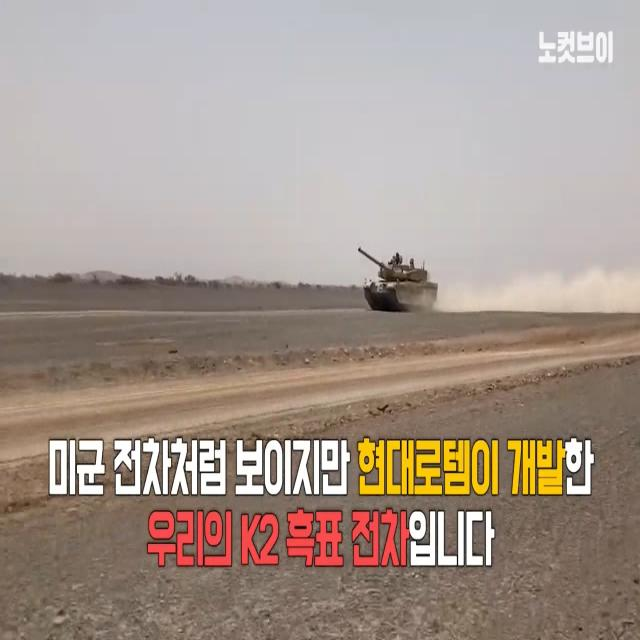korea tank: (357, 248, 438, 311)
